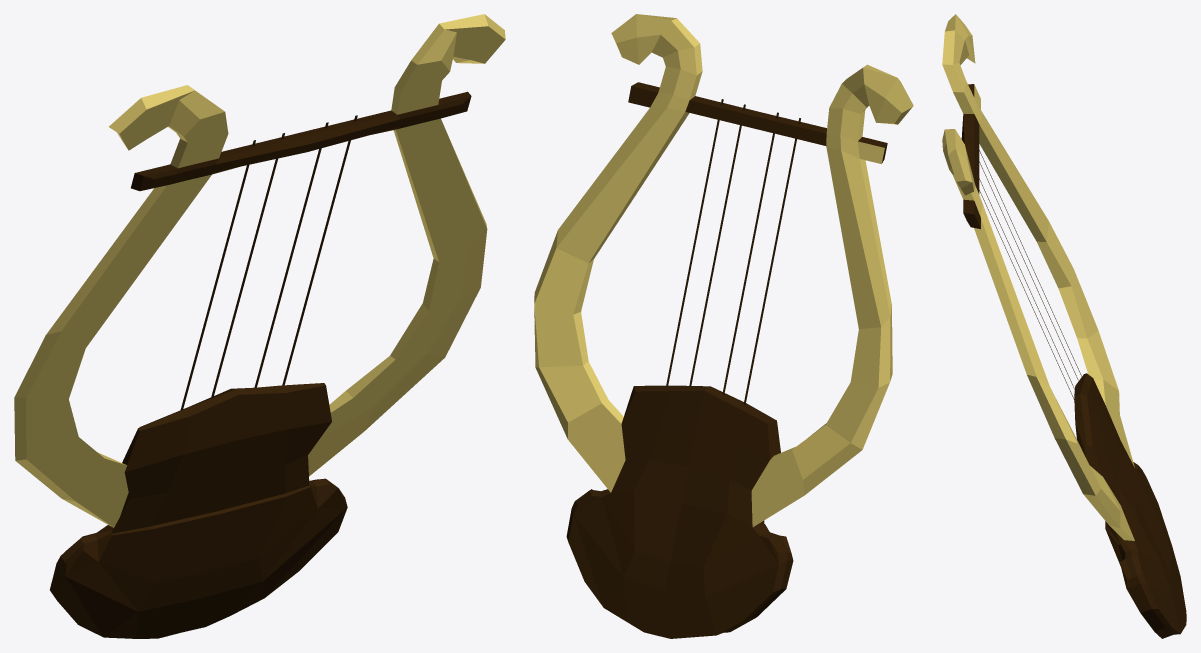
Rendered from Arpa.fbx.
3 renders of one model, left to right at view 1: azimuth 30°, elevation 25°; view 2: azimuth 150°, elevation 25°; view 3: azimuth 270°, elevation 25°, orthographic. The views are drawn at different scales.
Parts seen in each view (by area): view 1: Arpa; view 2: Arpa; view 3: Arpa.
Boxes of the visible parts, box(x1,y1,x2,y2) form: Arpa: box(14, 14, 505, 638); Arpa: box(534, 14, 913, 638); Arpa: box(942, 14, 1186, 638).
Size of the model in its own units: 210 by 291 by 119.
